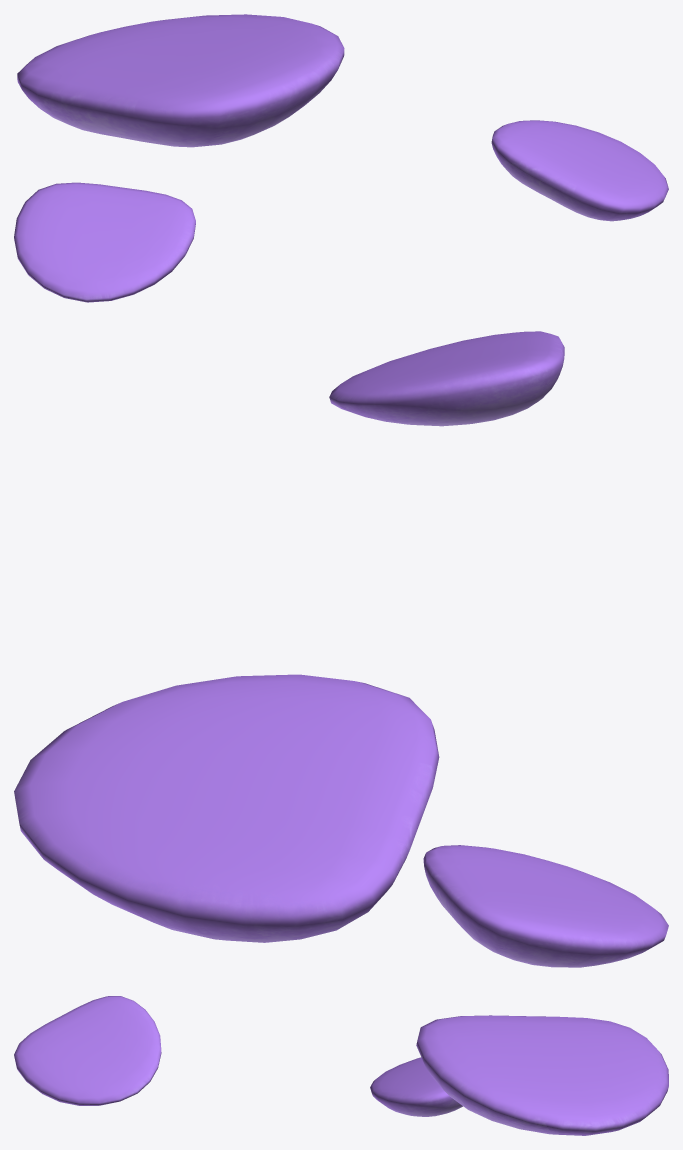
The model's file is CoralDisksPurple.fbx.
3 renders of one model, top to bottom at view 1: azimuth 30°, elevation 25°; view 2: azimuth 150°, elevation 25°; view 3: azimuth 270°, elevation 25°, orthographic. The views are drawn at different scales.
Visible parts, largest first — view 1: Object_13; view 2: Object_13; view 3: Object_13.
Part boxes in pixels (x1,y1,x2,y2): Object_13: (14, 14, 668, 302); Object_13: (14, 331, 668, 967); Object_13: (14, 996, 668, 1135).
Bounding box in the file's own units: 24032 × 12462 × 38871.
1 material, 1 textured.
